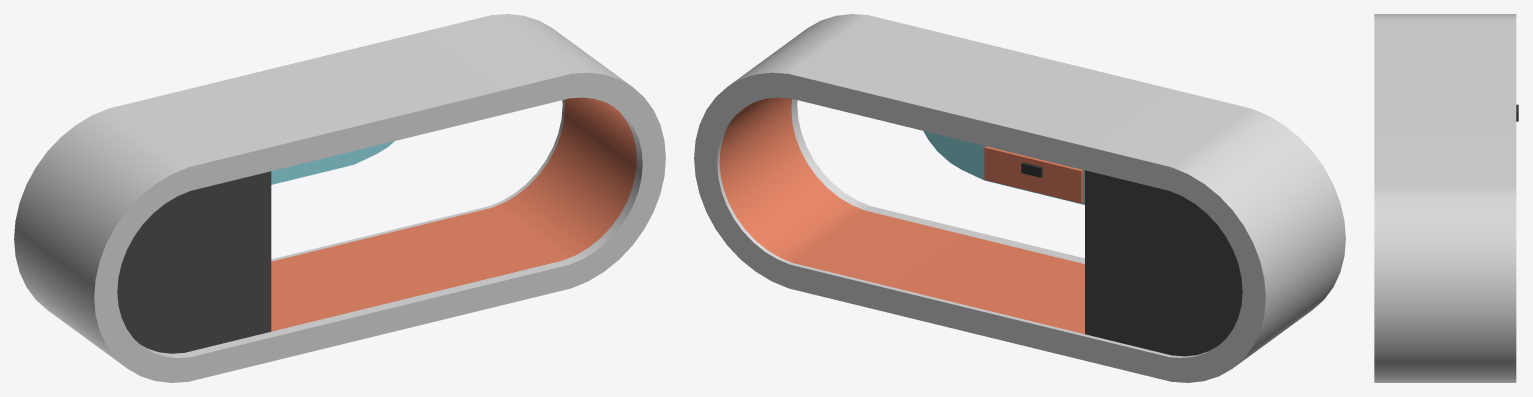
The model's file is LobbyFrontDesk.fbx.
The picture shows the model from 3 angles, left to right: view 1: azimuth 30°, elevation 25°; view 2: azimuth 150°, elevation 25°; view 3: azimuth 270°, elevation 25°; orthographic projection. The views are drawn at different scales.
Visible parts, largest first — view 1: Desk; view 2: Desk; view 3: Desk.
Part boxes in pixels (x1,y1,x2,y2): Desk: [14, 14, 665, 382]; Desk: [694, 14, 1345, 382]; Desk: [1374, 14, 1518, 382].
Size of the model in its own units: 64.88 by 23.27 by 15.99.
